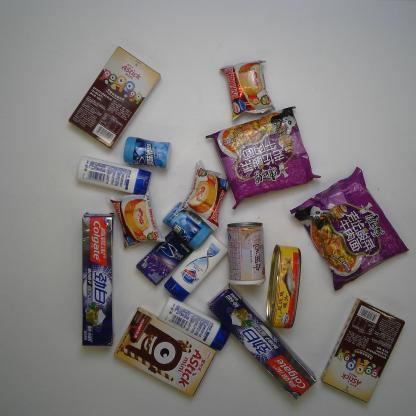Canned Food: (265, 245, 303, 330), (224, 220, 268, 289)
Dessert: (65, 42, 164, 151), (112, 306, 220, 396), (320, 296, 406, 404), (176, 156, 235, 230), (218, 57, 276, 123), (107, 188, 167, 251)
Gum: (134, 229, 194, 287), (160, 201, 214, 251), (122, 135, 174, 171)
Instant Noodles: (288, 167, 411, 295), (204, 102, 323, 212)
Personal Hygiene: (206, 282, 319, 401), (78, 206, 117, 350), (163, 230, 229, 301), (155, 296, 234, 352), (75, 154, 154, 197)
